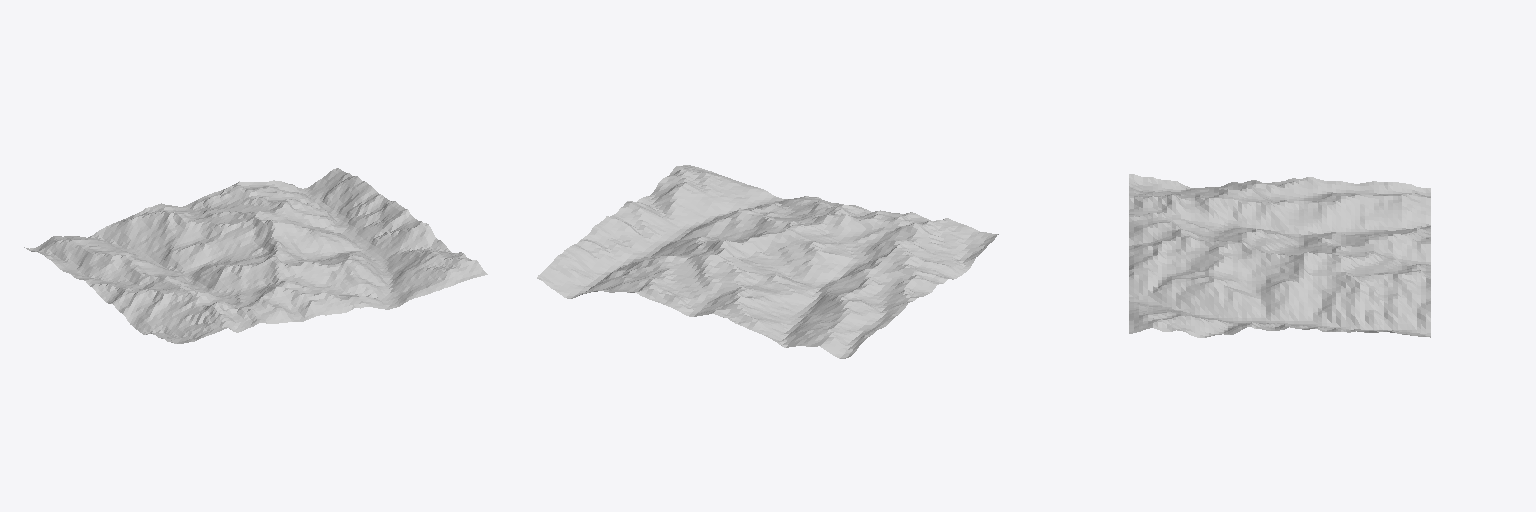
3 views of the same model, side by side, from view 1: azimuth 30°, elevation 25°; view 2: azimuth 150°, elevation 25°; view 3: azimuth 270°, elevation 25° (orthographic).
Parts seen in each view (by area): view 1: EXPORT_GOOGLE_SAT_WM.026; view 2: EXPORT_GOOGLE_SAT_WM.026; view 3: EXPORT_GOOGLE_SAT_WM.026.
Part boxes in pixels (x1,y1,x2,y2): EXPORT_GOOGLE_SAT_WM.026: (24, 168, 487, 343); EXPORT_GOOGLE_SAT_WM.026: (537, 165, 998, 358); EXPORT_GOOGLE_SAT_WM.026: (1129, 174, 1430, 337).
Bounding box in the file's own units: 36498 × 4033 × 30415.